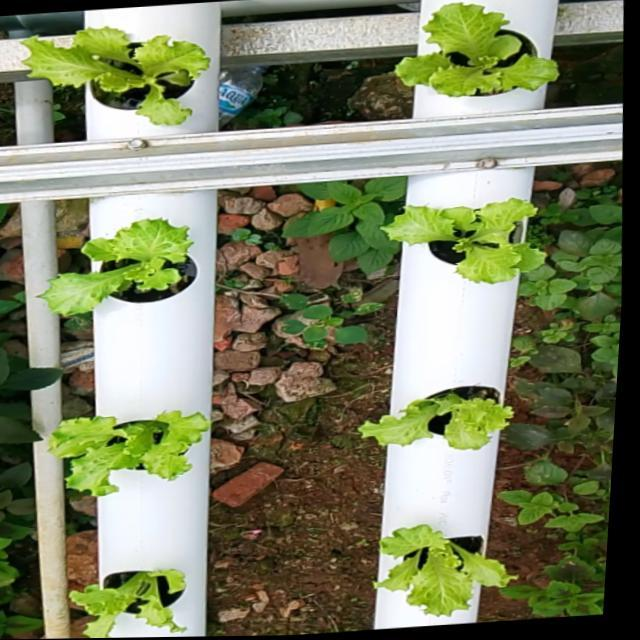Baby: (21, 24, 210, 123), (397, 0, 561, 110), (45, 209, 204, 307), (381, 192, 547, 279), (55, 401, 217, 486), (379, 514, 520, 604), (364, 376, 518, 440), (77, 557, 192, 633)
